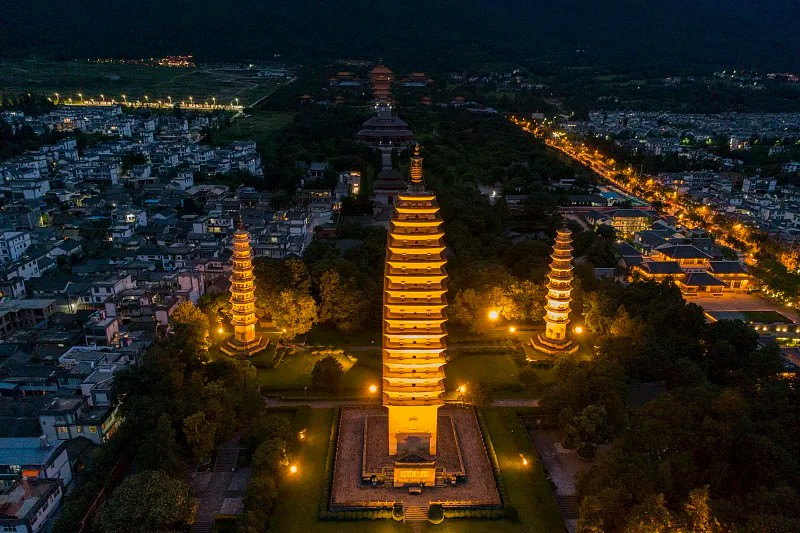ThreePagoda: (382, 140, 447, 456), (382, 144, 447, 455)
